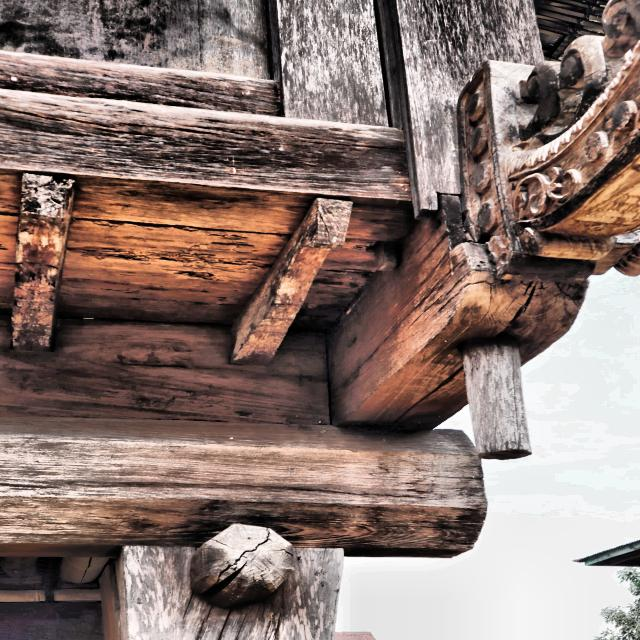ornamen: (457, 0, 640, 283)
